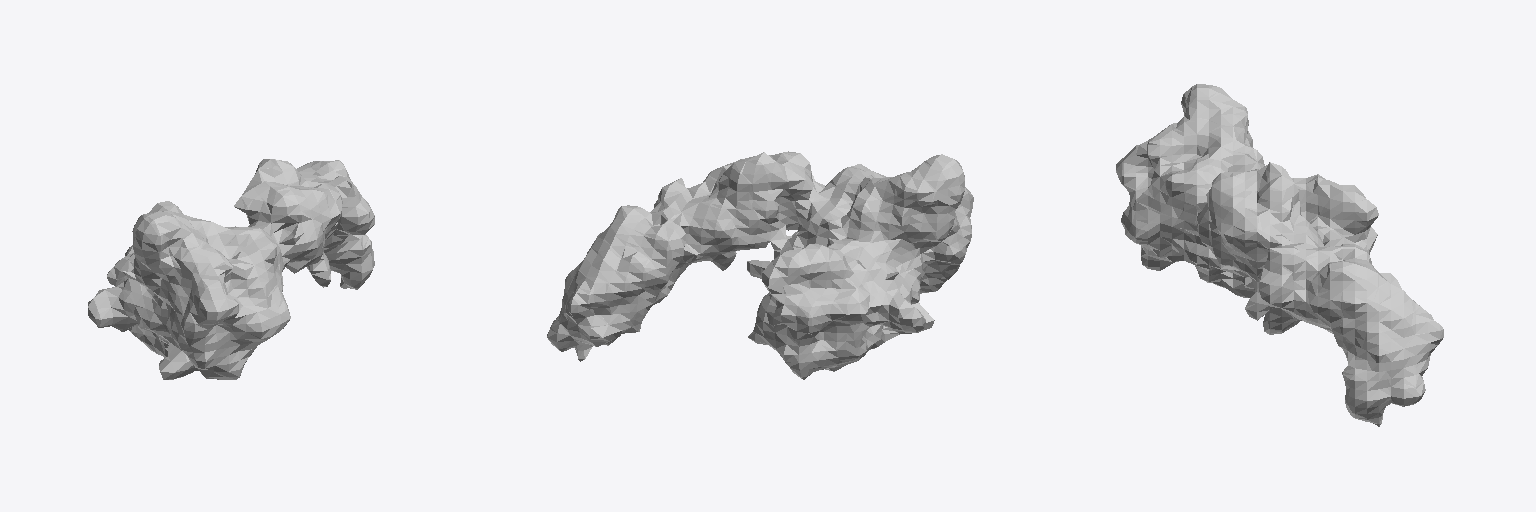
File: 1efg_cms.obj
3 views of the same model, side by side, from view 1: azimuth 30°, elevation 25°; view 2: azimuth 150°, elevation 25°; view 3: azimuth 270°, elevation 25° (orthographic).
Visible parts, largest first — view 1: CoarseMS_1efg_1; view 2: CoarseMS_1efg_1; view 3: CoarseMS_1efg_1.
Part boxes in pixels (bbox=[...]): CoarseMS_1efg_1: bbox=[88, 159, 374, 379]; CoarseMS_1efg_1: bbox=[547, 151, 973, 379]; CoarseMS_1efg_1: bbox=[1116, 84, 1443, 426].
Size of the model in its own units: 96.27 by 59.01 by 84.75.